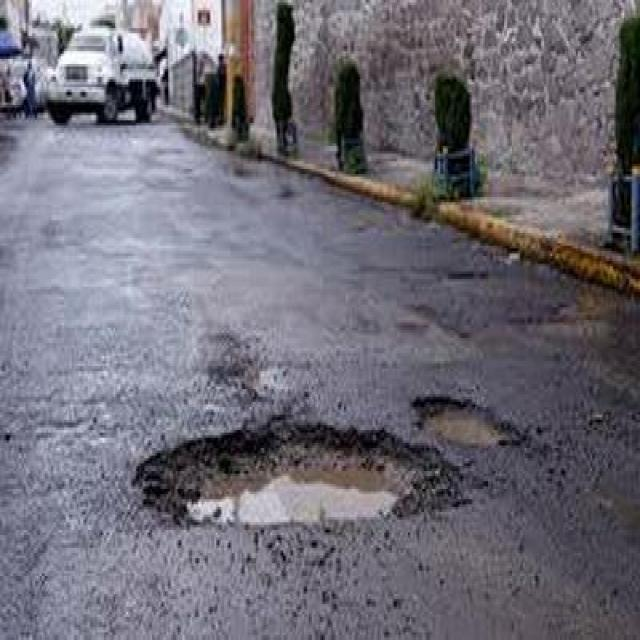pothole: (85, 374, 530, 587)
